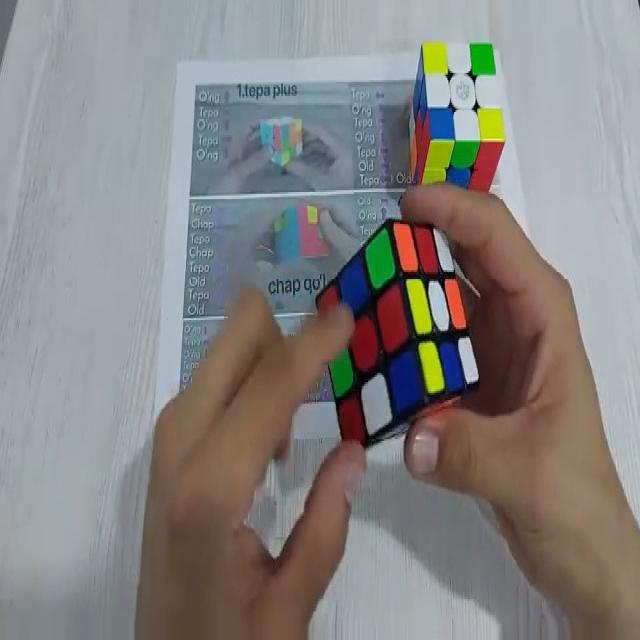Rub: (317, 217, 483, 456), (410, 41, 507, 192)
